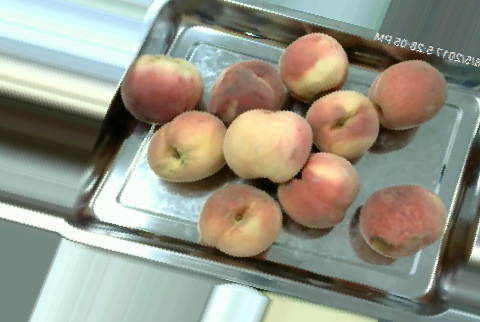Peach: (355, 182, 446, 260), (224, 107, 309, 183), (117, 52, 204, 126), (279, 150, 361, 228), (197, 182, 283, 256), (364, 59, 446, 133), (145, 110, 227, 183), (203, 57, 288, 125), (303, 87, 379, 163), (278, 29, 353, 104)
